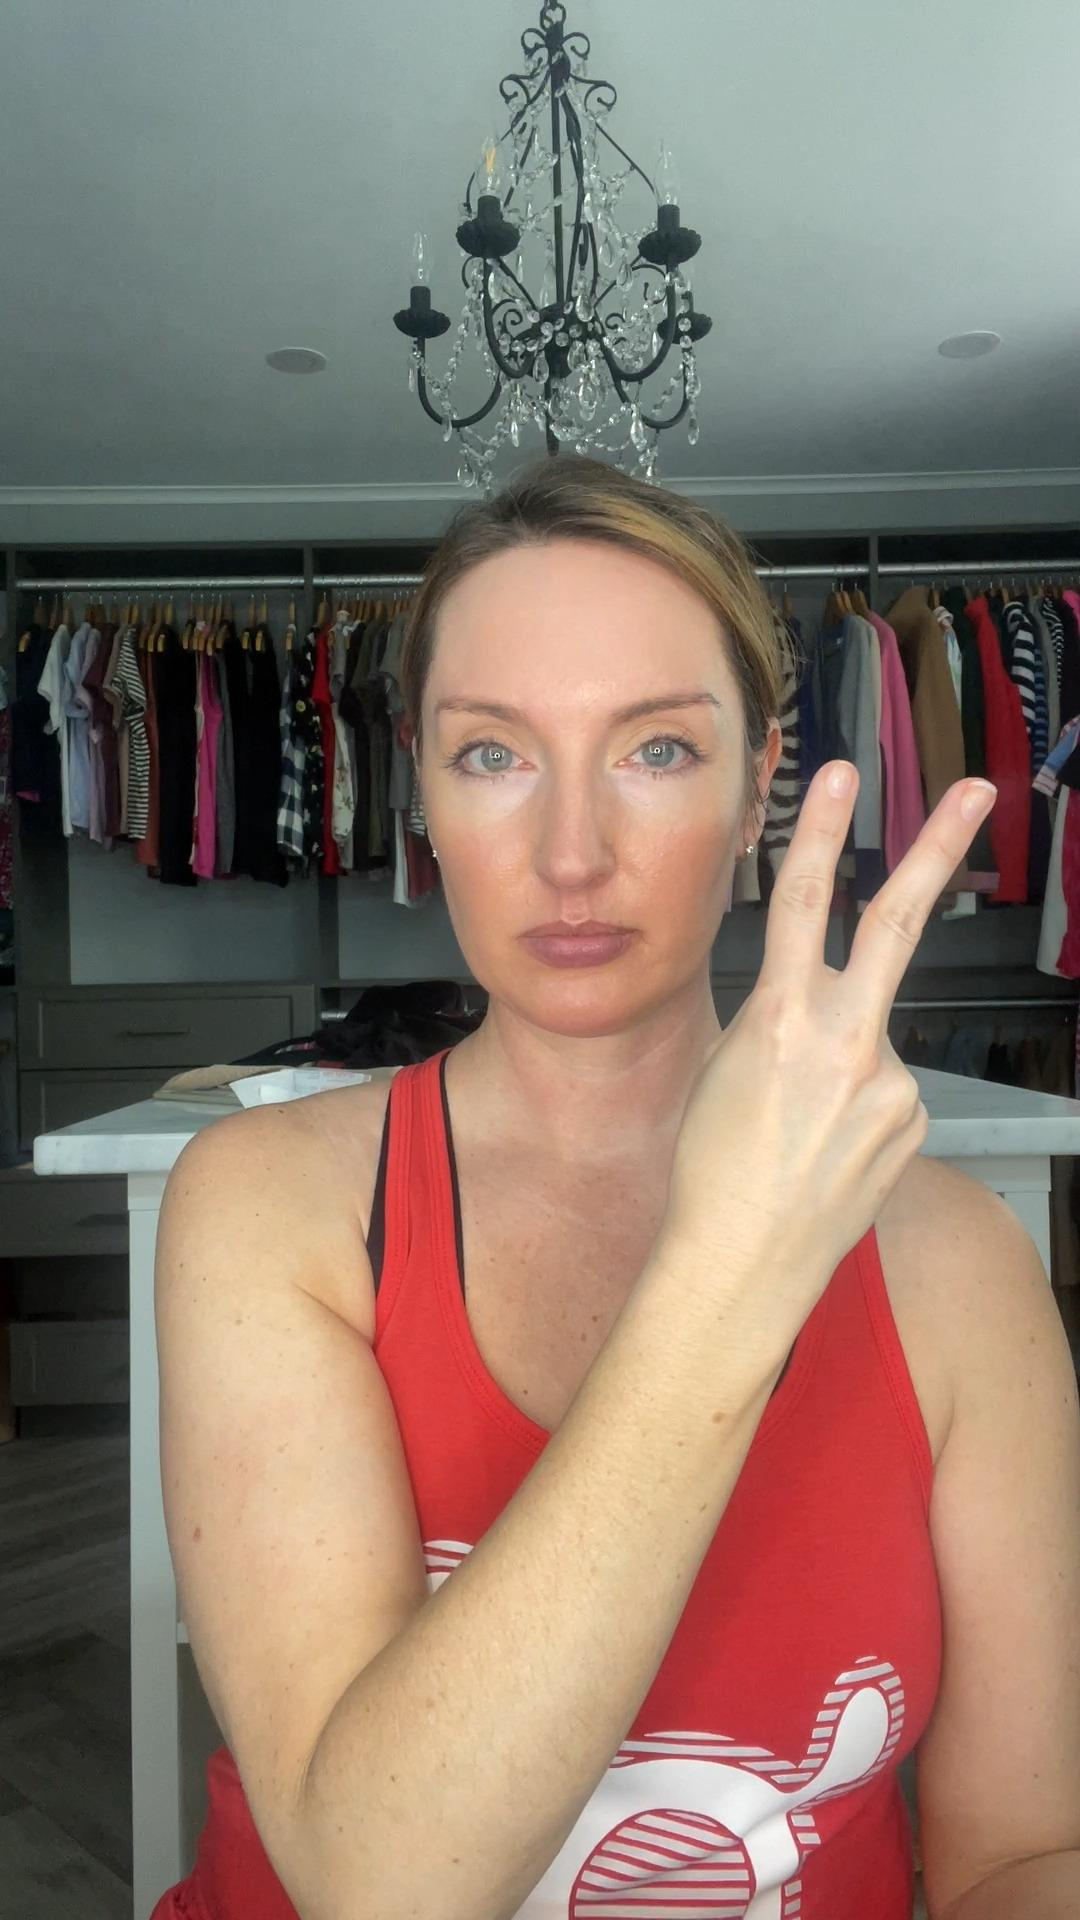Scissors: (687, 750, 985, 1263)
